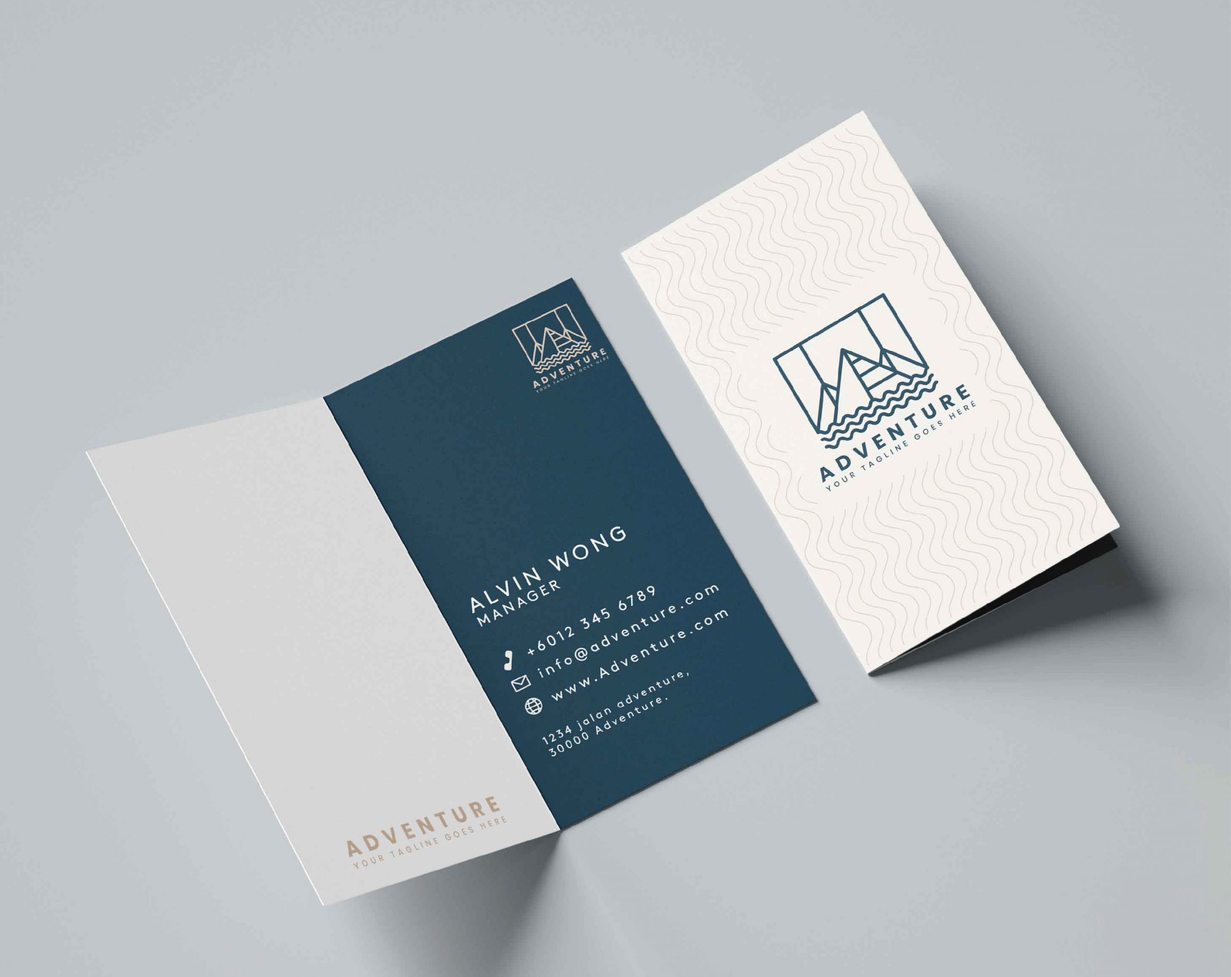paper: (81, 106, 1126, 910)
